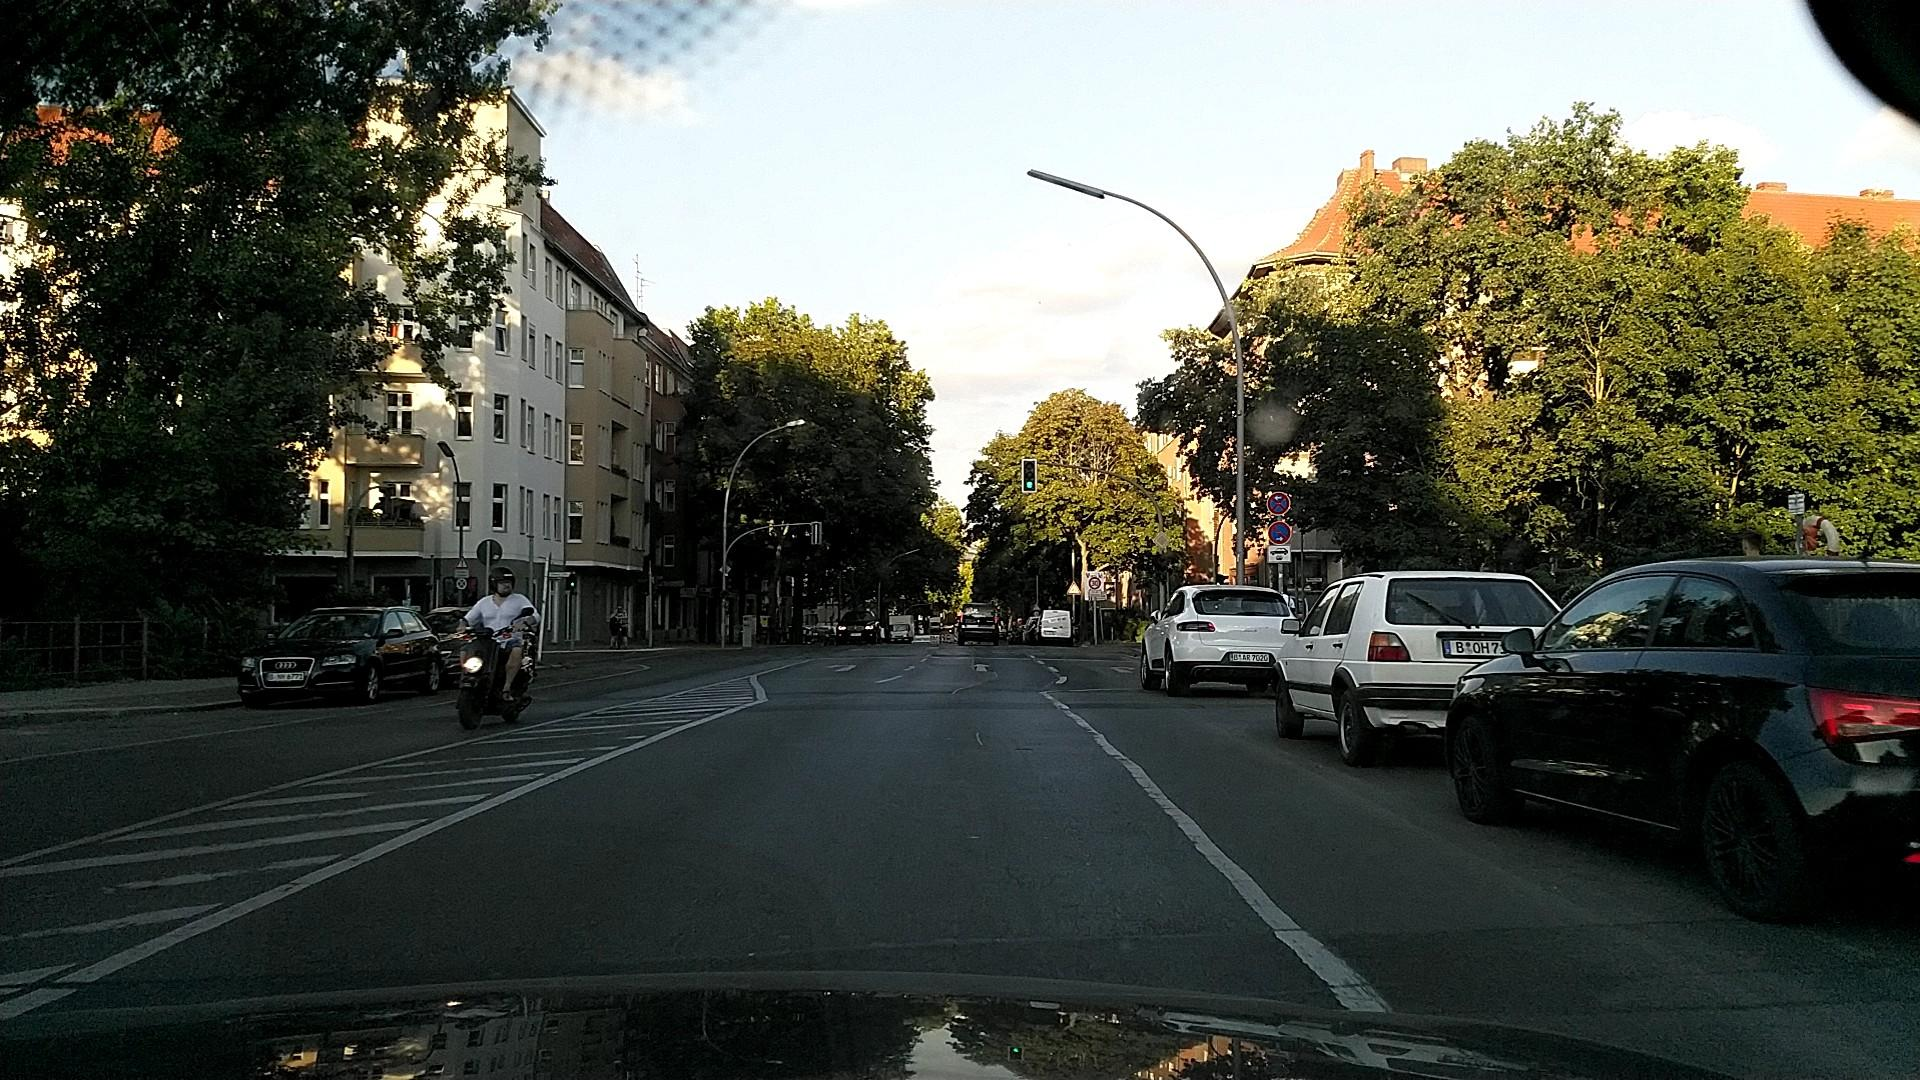Human face: (489, 572, 514, 598), (616, 606, 623, 613)
Vehicle registration plate: (1440, 638, 1509, 659), (1228, 652, 1270, 663), (265, 672, 302, 681)
